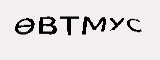В: (39, 11, 59, 35)
М: (82, 13, 106, 35)
С: (126, 14, 144, 37)
Т: (60, 12, 77, 35)
У: (107, 14, 125, 34)
Ө: (11, 13, 36, 37)
